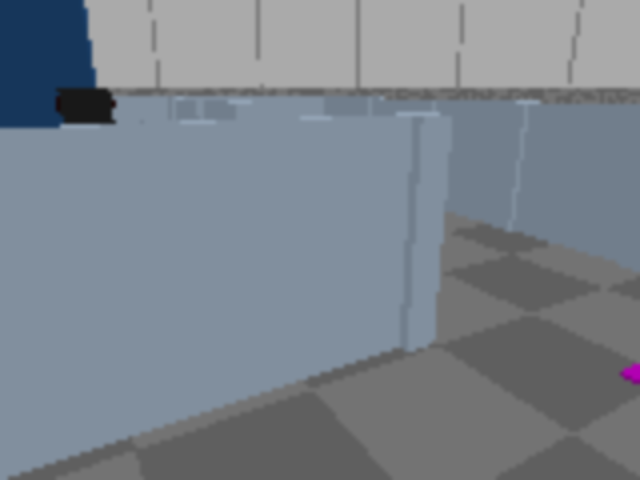goal_zone: (619, 327, 638, 478)
